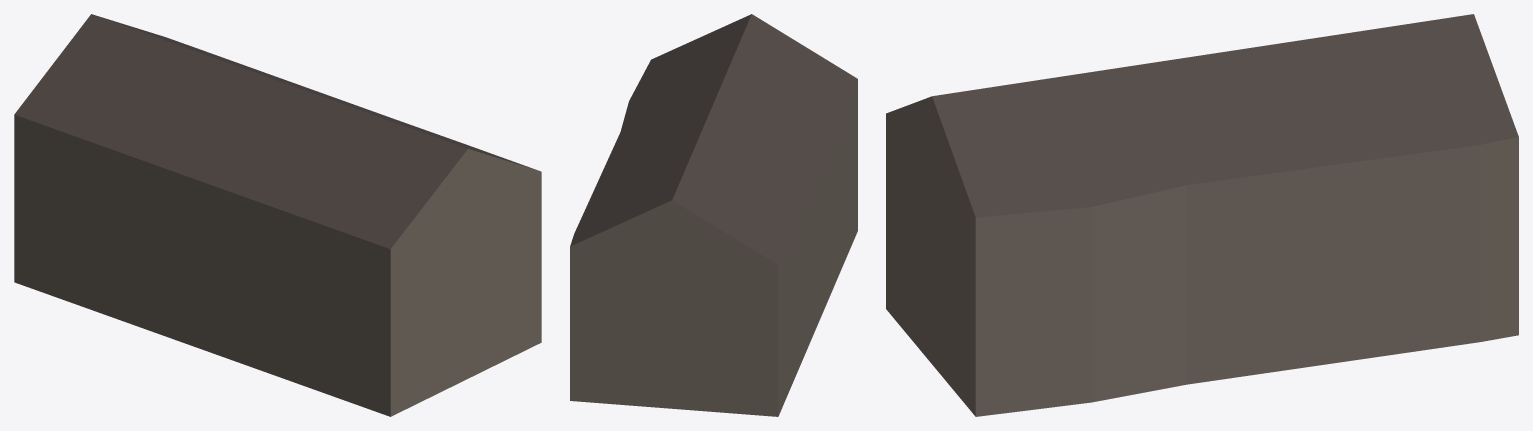
3 renders of one model, left to right at view 1: azimuth 30°, elevation 25°; view 2: azimuth 150°, elevation 25°; view 3: azimuth 270°, elevation 25°, orthographic. The views are drawn at different scales.
Visible parts, largest first — view 1: HP-w1198020603; view 2: HP-w1198020603; view 3: HP-w1198020603.
Part boxes in pixels (left/top/right/bottom): HP-w1198020603: left=14, top=14, right=541, bottom=416; HP-w1198020603: left=570, top=14, right=857, bottom=416; HP-w1198020603: left=886, top=14, right=1518, bottom=416.
Bounding box in the file's own units: 12.5 × 8.23 × 17.6.
